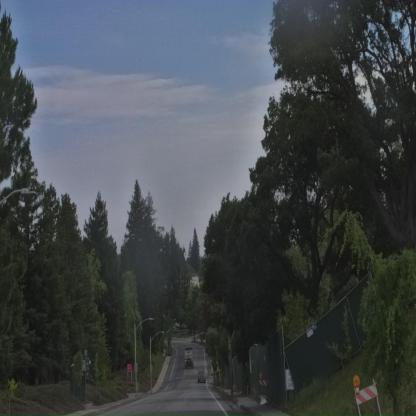car: (184, 353, 194, 372), (197, 372, 206, 384)
